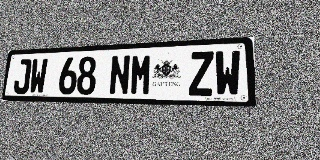6: (58, 57, 79, 94)
8: (76, 56, 97, 95)
J: (13, 59, 32, 94)
M: (130, 54, 152, 95)
N: (109, 55, 131, 95)
W: (215, 50, 241, 96), (29, 58, 48, 94)
Z: (189, 51, 214, 96)
